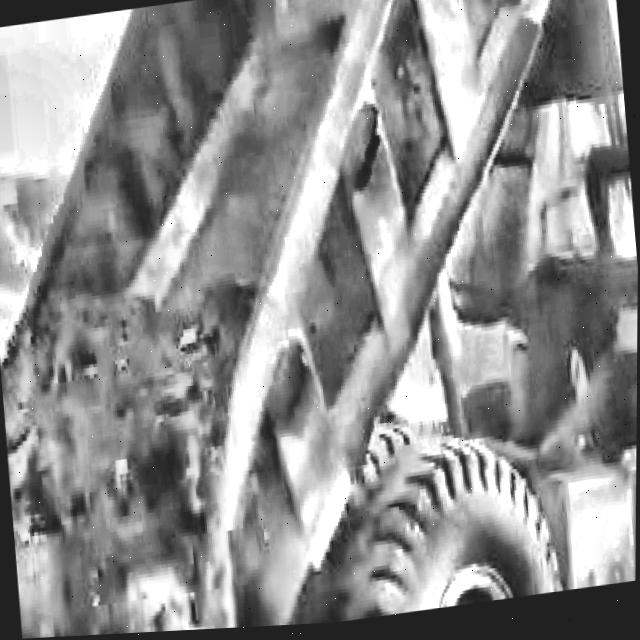dump_truck: (19, 0, 640, 639)
